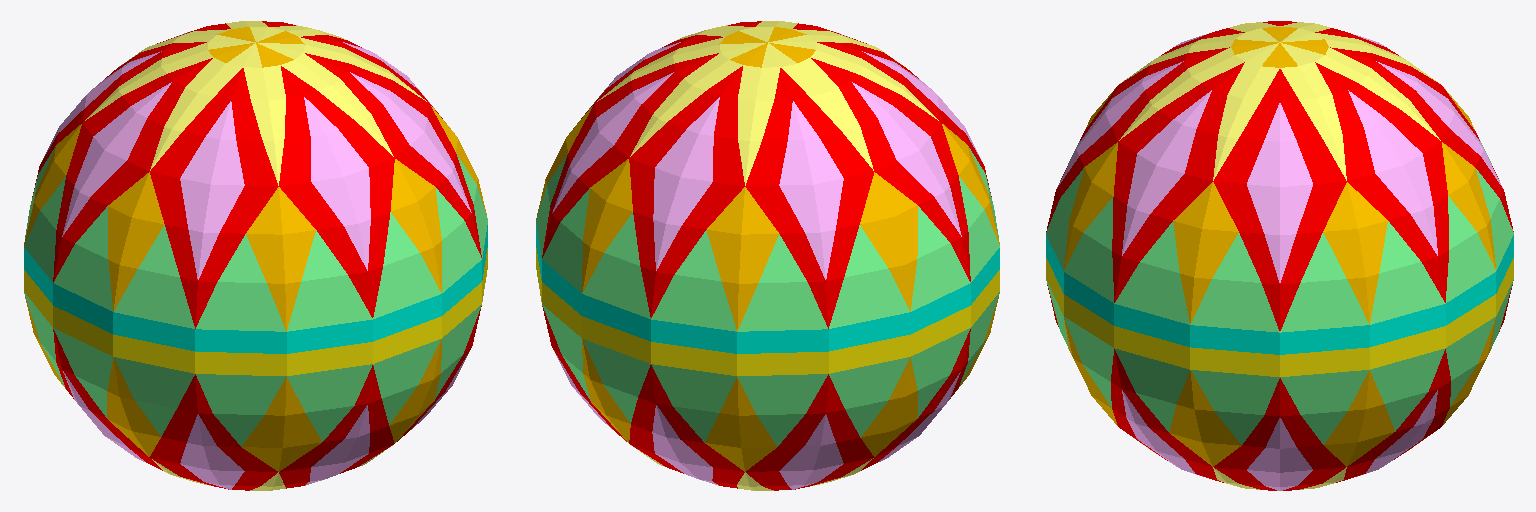
File: ball.obj
3 views of the same model, side by side, from view 1: azimuth 30°, elevation 25°; view 2: azimuth 150°, elevation 25°; view 3: azimuth 270°, elevation 25° (orthographic).
Visible parts, largest first — view 1: pSphere1; view 2: pSphere1; view 3: pSphere1.
Part boxes in pixels (left/top/right/bottom): pSphere1: left=24, top=21, right=487, bottom=490; pSphere1: left=536, top=21, right=999, bottom=490; pSphere1: left=1046, top=21, right=1513, bottom=490.
Bounding box in the file's own units: 19.89 × 20 × 19.89.